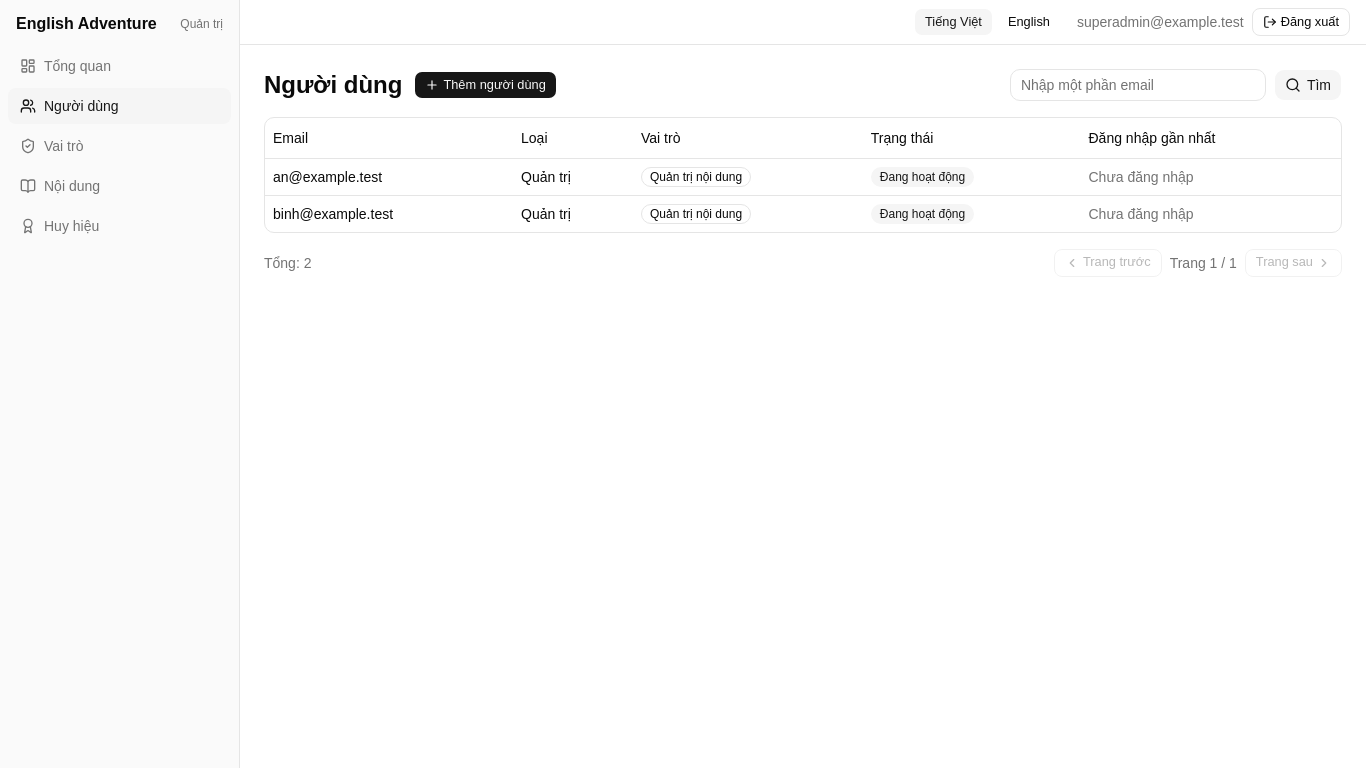
Test case: UsersListPage › searches by email and keeps the search in the address
Expected: the link "an@example.test" is shown, [273,168,382,184]
In the search field named "Tìm theo email": (1138, 85) [1010,69,1266,101], type "  binh "
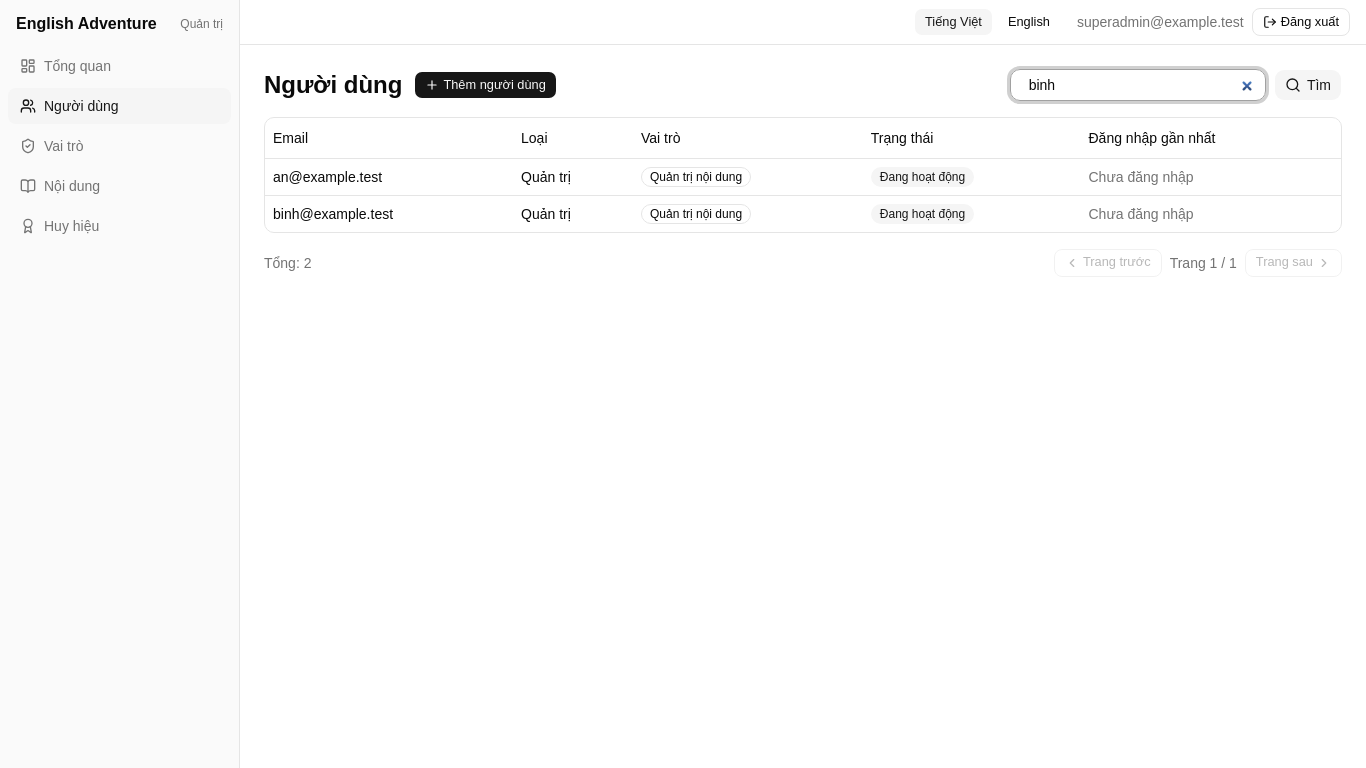
Click the button "Tìm": (1308, 85) [1274,69,1342,101]
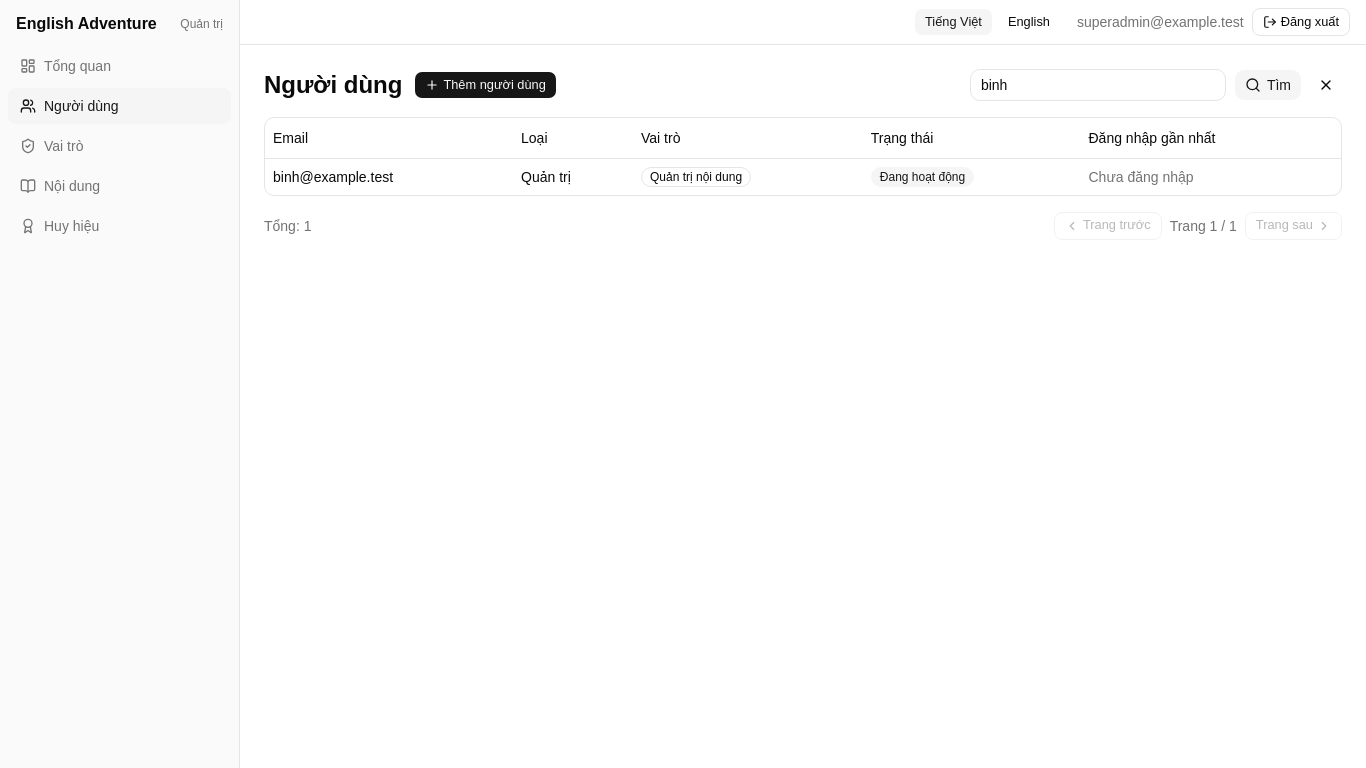
Expected: the text "Tổng: 1" is shown, [264,216,312,236]
Click the button named "Xóa tìm kiếm": (1326, 85) [1310,69,1342,101]
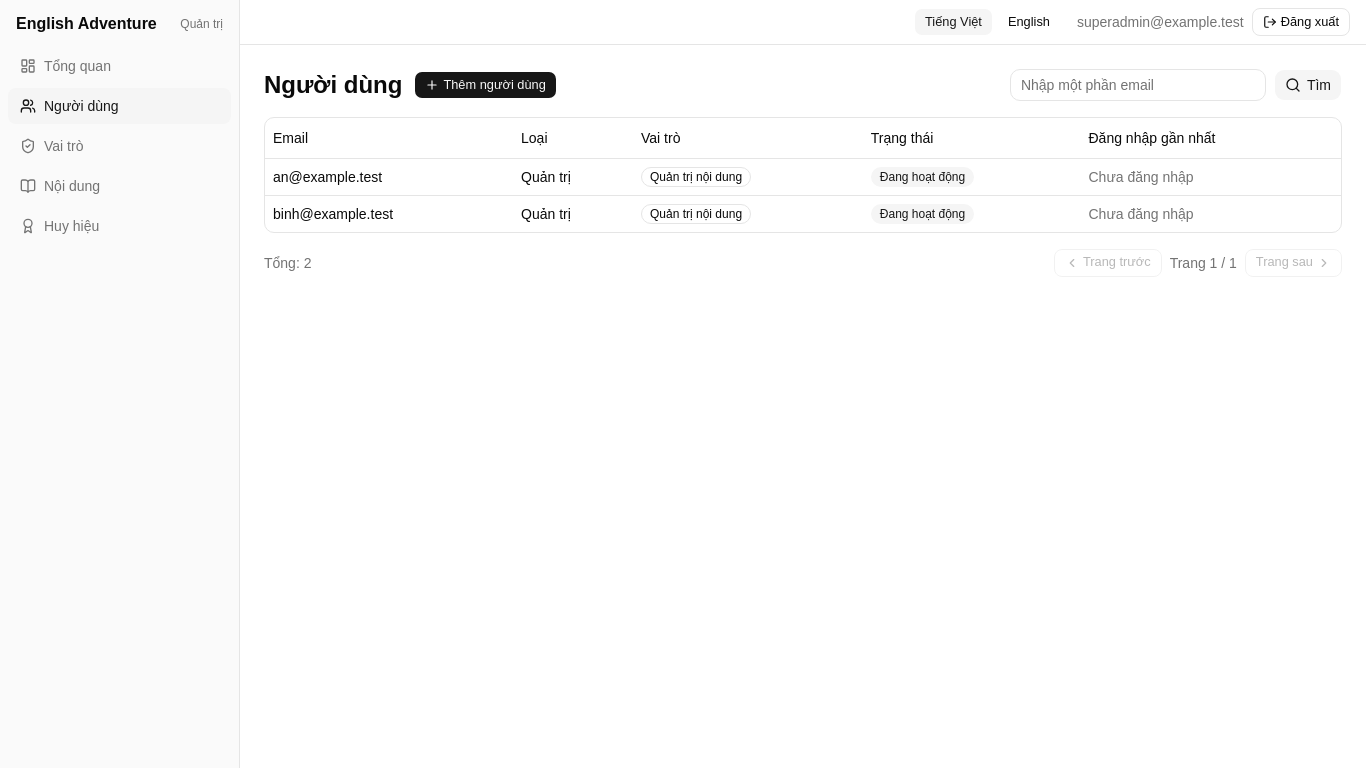
Expected: the text "Tổng: 2" is shown, [264,252,312,272]
